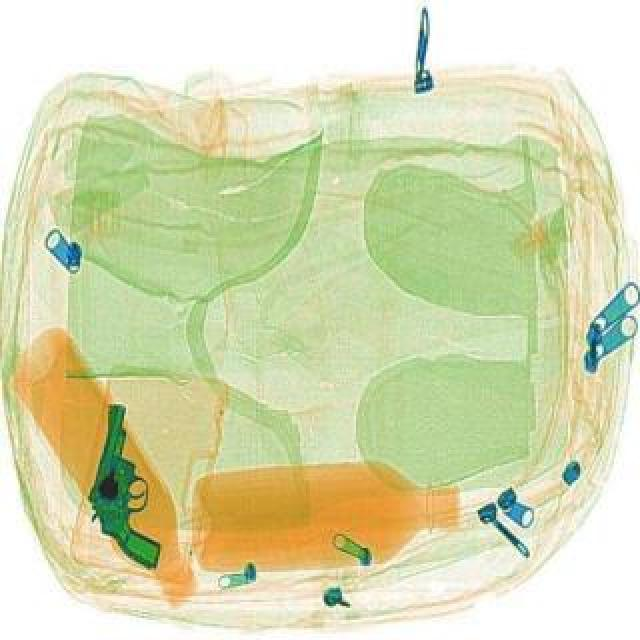gun: (68, 400, 194, 568)
